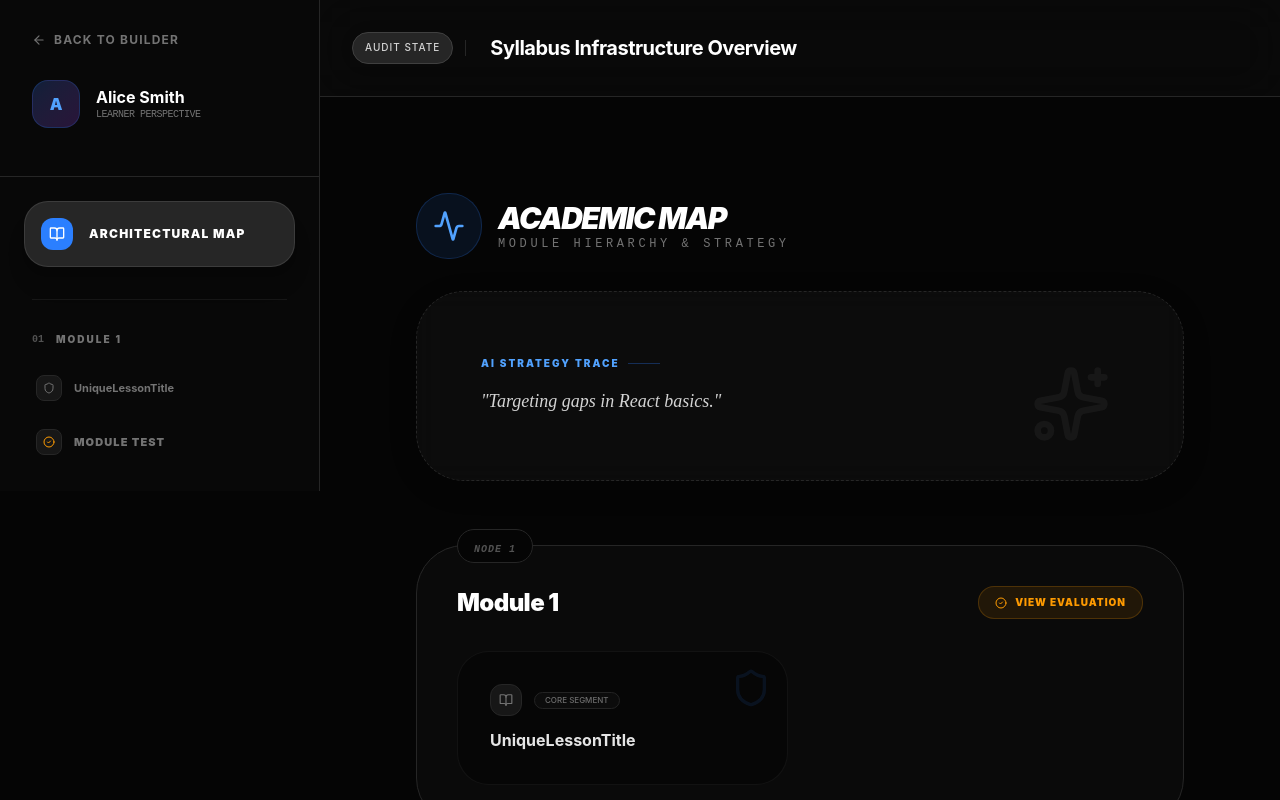
CandidatePerspective Component › handles mermaid render error fallback
The width and height of the screenshot is (1280, 800).
Click the button "UniqueLessonTitle" at (160, 388), box left=24, top=363, right=295, bottom=413
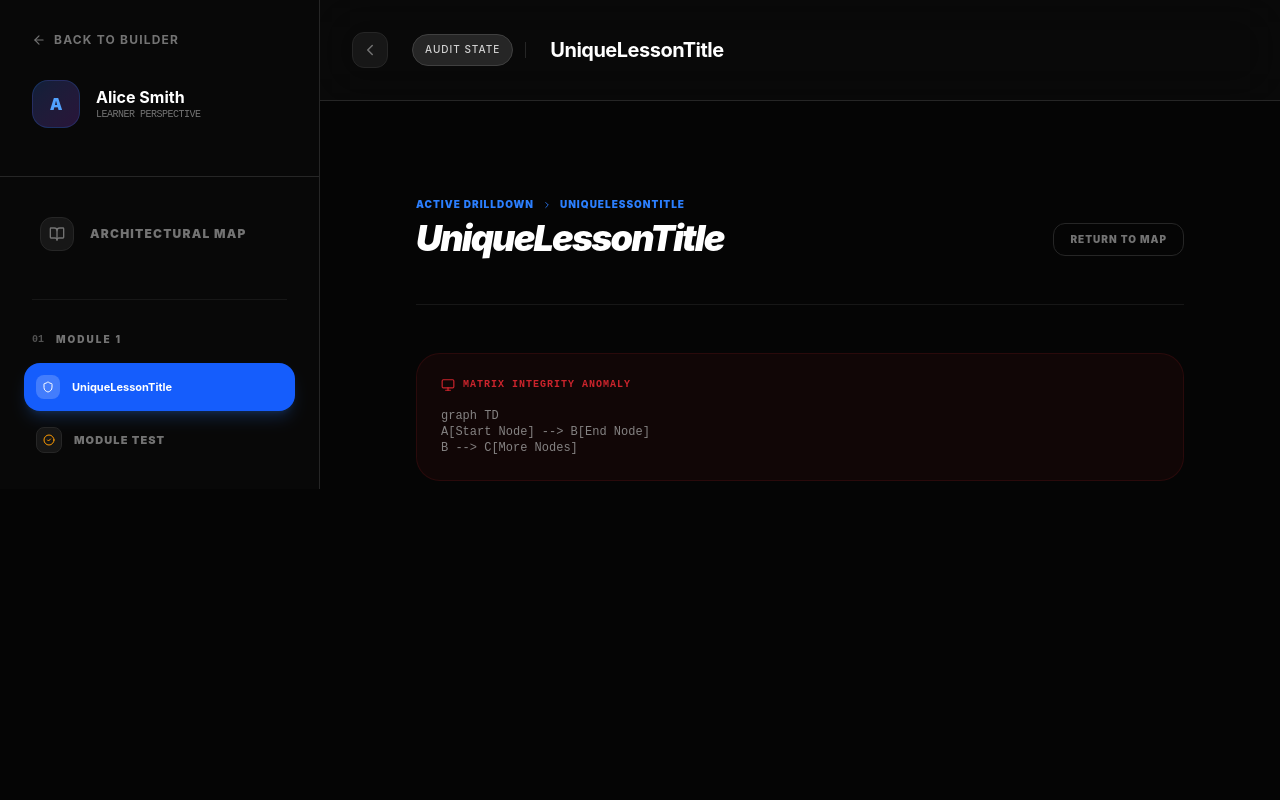
Result: the text "Matrix Integrity Anomaly" is shown at left=441, top=378, right=631, bottom=392
